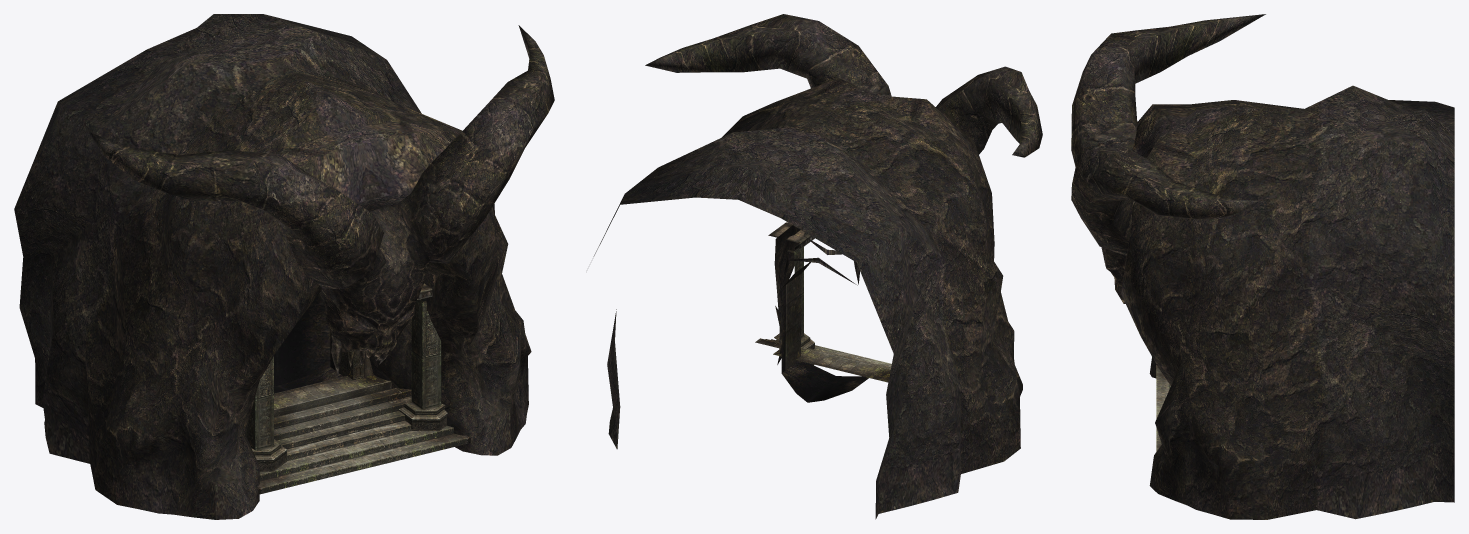
Rendered from devil_entrance.glb.
3 renders of one model, left to right at view 1: azimuth 30°, elevation 25°; view 2: azimuth 150°, elevation 25°; view 3: azimuth 270°, elevation 25°, orthographic. The views are drawn at different scales.
Parts seen in each view (by area): view 1: anglar_wall1_lm03, Object09; view 2: anglar_wall1_lm03, Object09; view 3: anglar_wall1_lm03, Object09.
Part boxes in pixels (left/top/right/bottom): anglar_wall1_lm03: left=14, top=14, right=554, bottom=519; Object09: left=245, top=283, right=470, bottom=494; anglar_wall1_lm03: left=593, top=14, right=1042, bottom=519; Object09: left=755, top=222, right=891, bottom=402; anglar_wall1_lm03: left=1071, top=14, right=1454, bottom=519; Object09: left=1156, top=364, right=1170, bottom=451.
Bounding box in the file's own units: 23.62 × 20.04 × 20.42.
2 materials, 2 textured.
